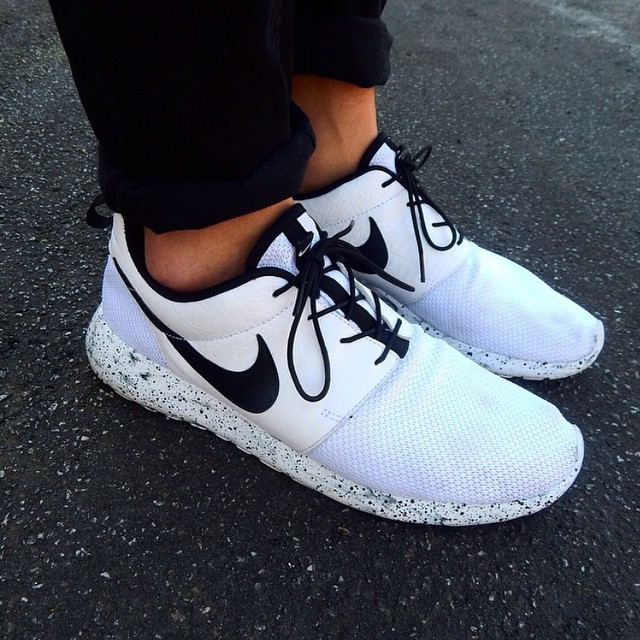sneaker: (67, 170, 602, 552), (256, 111, 626, 409)
